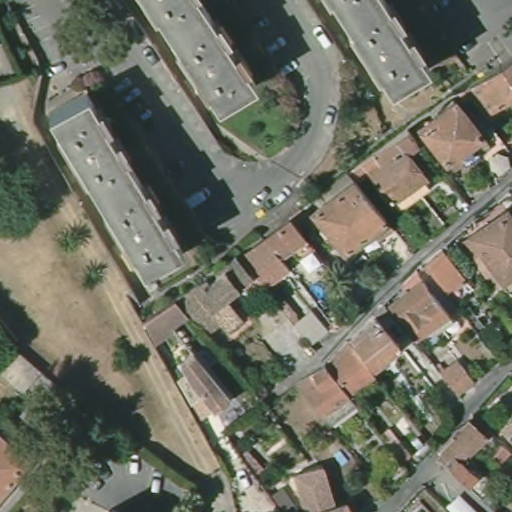pool: (304, 281, 328, 304)
